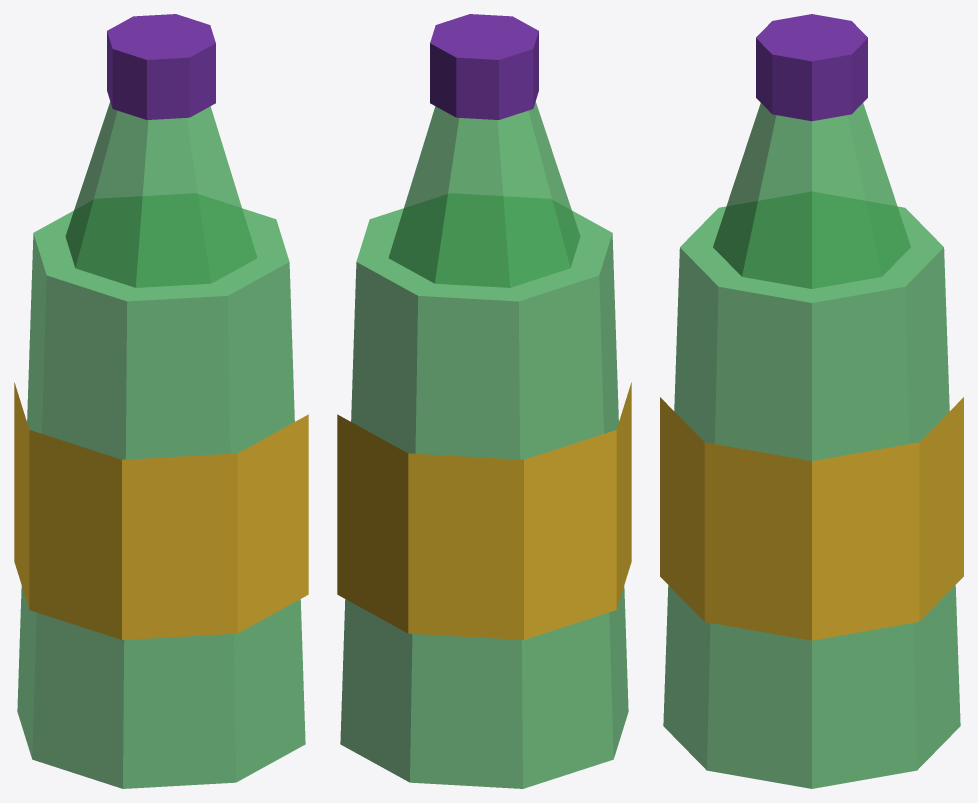
File: super_tonic_bottle.glb
3 renders of one model, left to right at view 1: azimuth 30°, elevation 25°; view 2: azimuth 150°, elevation 25°; view 3: azimuth 270°, elevation 25°, orthographic.
Parts seen in each view (by area): view 1: bottle_tonic_glass, label_tonic_label, neck_tonic_glass, cap_tonic_cap; view 2: bottle_tonic_glass, label_tonic_label, neck_tonic_glass, cap_tonic_cap; view 3: bottle_tonic_glass, label_tonic_label, neck_tonic_glass, cap_tonic_cap.
Part boxes in pixels (x1,y1,x2,y2): bottle_tonic_glass: [17, 194, 305, 788]; label_tonic_label: [14, 382, 308, 639]; neck_tonic_glass: [65, 102, 257, 287]; cap_tonic_cap: [107, 14, 215, 119]; bottle_tonic_glass: [340, 194, 628, 788]; label_tonic_label: [337, 382, 631, 639]; neck_tonic_glass: [388, 102, 580, 287]; cap_tonic_cap: [430, 14, 538, 119]; bottle_tonic_glass: [663, 192, 960, 788]; label_tonic_label: [660, 397, 963, 640]; neck_tonic_glass: [713, 103, 910, 288]; cap_tonic_cap: [756, 14, 867, 121].
Bounding box in the file's own units: 0.092 × 0.23 × 0.092.
